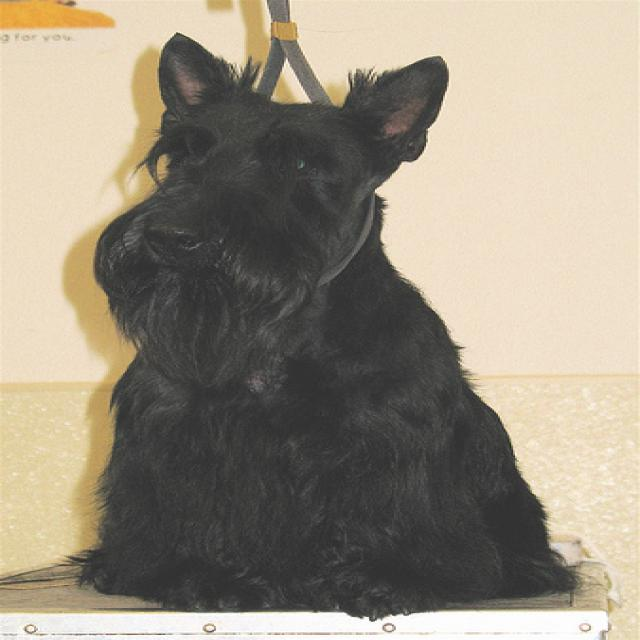dog-scottish_terrier: (57, 12, 579, 634)
